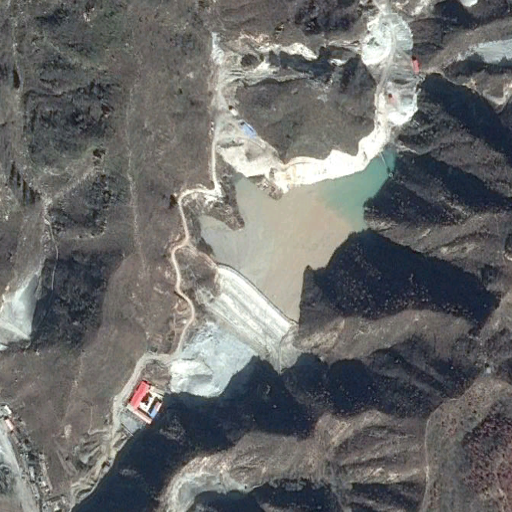tp: (198, 147, 395, 373)
